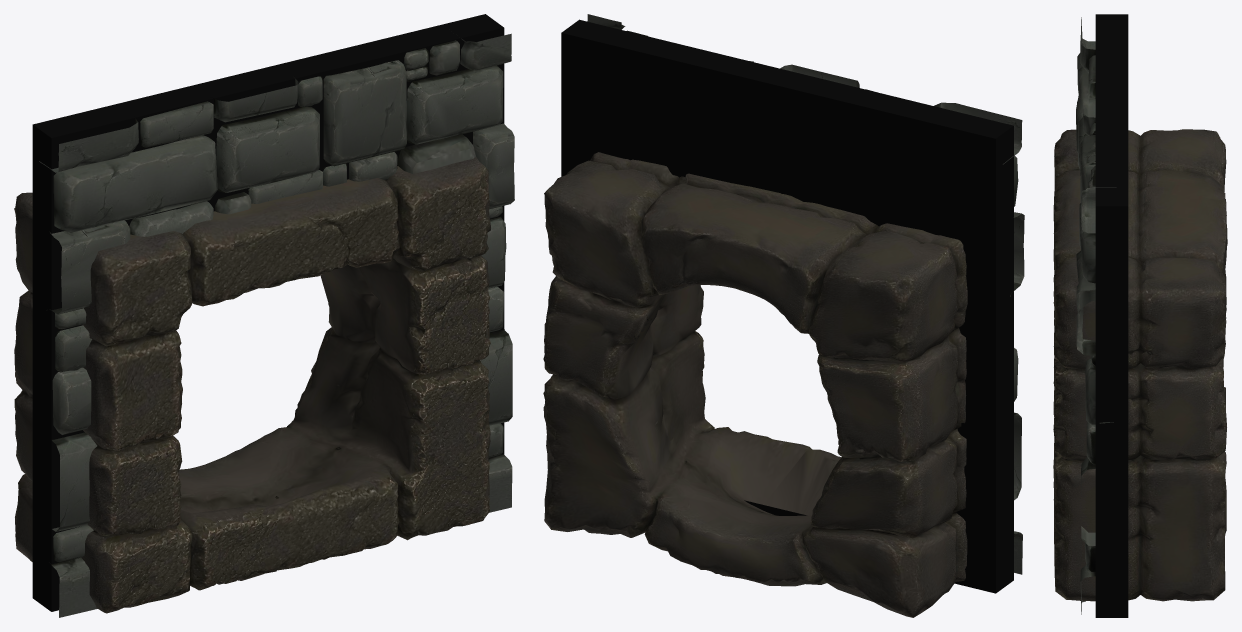
Rendered from Wall_Sewer_Entrance.fbx.
The picture shows the model from 3 angles, left to right: view 1: azimuth 30°, elevation 25°; view 2: azimuth 150°, elevation 25°; view 3: azimuth 270°, elevation 25°; orthographic projection. The views are drawn at different scales.
Parts seen in each view (by area): view 1: Wall_SewerEntrance_Square; view 2: Wall_SewerEntrance_Square; view 3: Wall_SewerEntrance_Square.
Part boxes in pixels (x1,y1,x2,y2): Wall_SewerEntrance_Square: (14,14,514,617); Wall_SewerEntrance_Square: (543,14,1024,617); Wall_SewerEntrance_Square: (1053,14,1227,617).
Bounding box in the file's own units: 302 × 302 × 115.
Materials: 3 (2 with a texture image).
